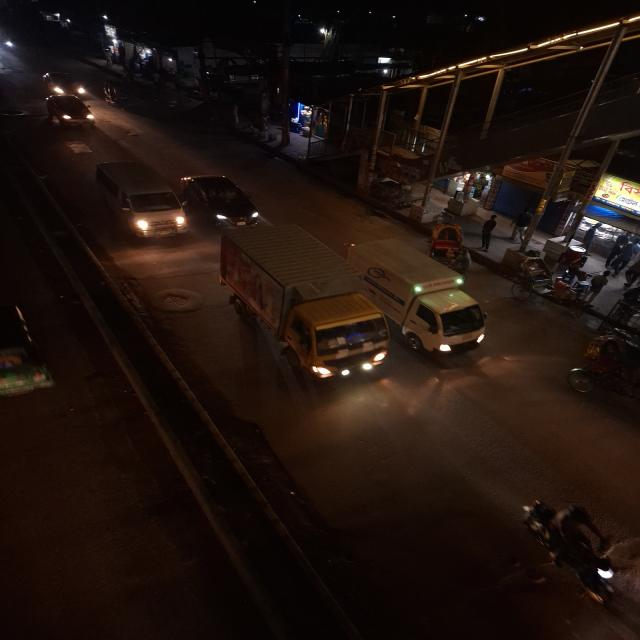car: (97, 159, 193, 249), (182, 166, 261, 229), (38, 92, 99, 132), (40, 65, 94, 96)
motorcycle: (515, 482, 629, 620)
rickshaw: (568, 328, 640, 409), (422, 216, 474, 271)
truck: (203, 218, 395, 392), (350, 221, 491, 363)
